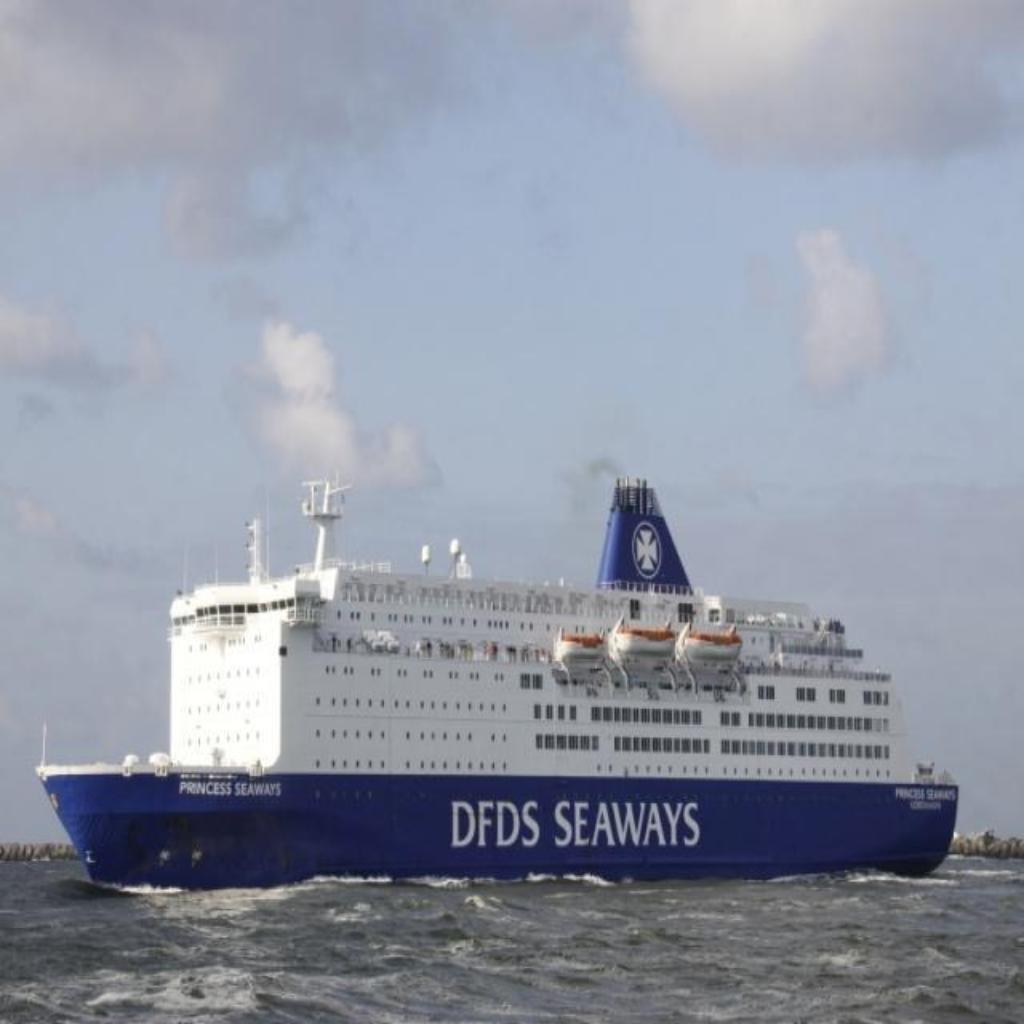PassengerShip: (32, 459, 962, 899)
